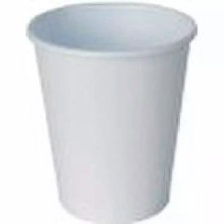paper_cup: (20, 0, 204, 224)
